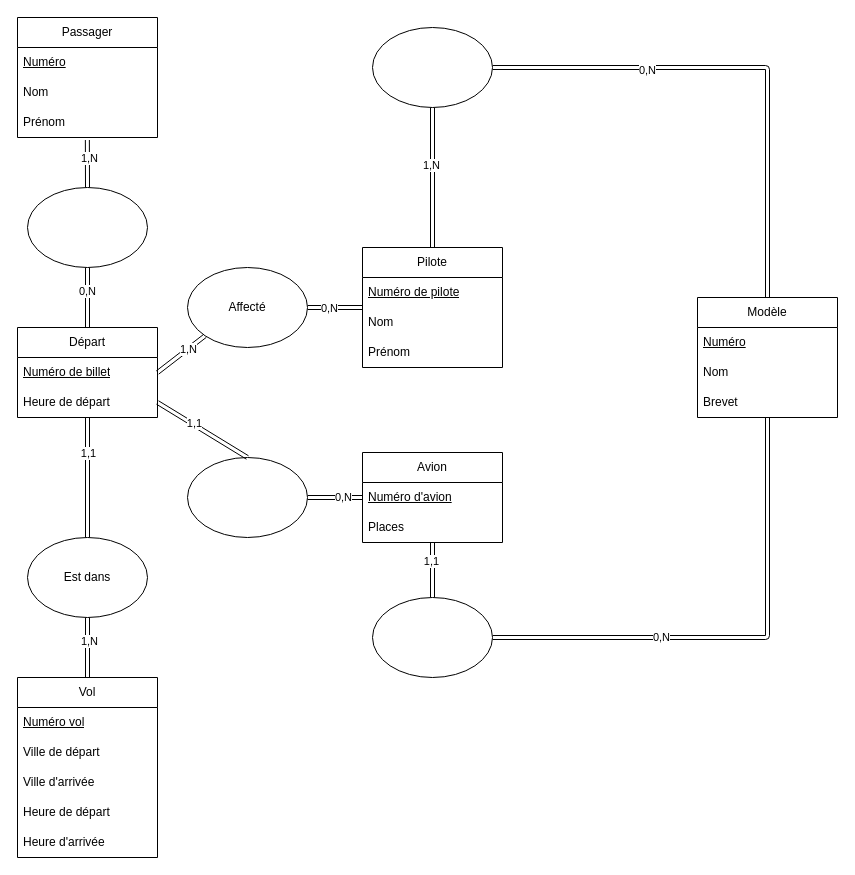
The diagram is 855 pixels wide and 875 high, and some of its shapes have lost their labels. The shapes that lost their labels are listed below. From the top down, each one's centre as x and y in pixels, then its label:
At (432,67): "Breveté".
At (87,227): "Réserve".
At (247,497): "Est pour".
At (432,637): "Est un".
